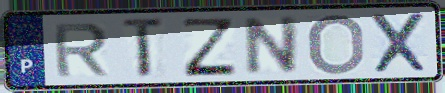N: (243, 14, 302, 77)
O: (306, 12, 367, 77)
R: (51, 21, 111, 79)
T: (120, 15, 168, 82)
X: (366, 10, 432, 76)
Z: (181, 17, 239, 79)
